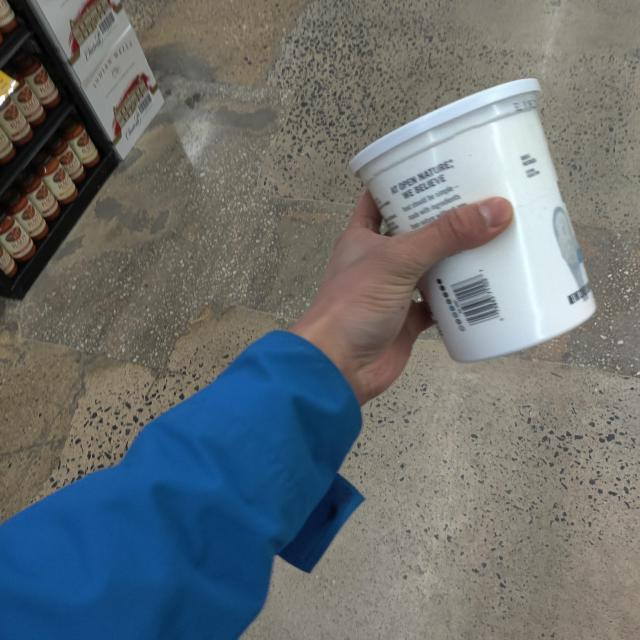Yogurt: (348, 77, 596, 362)
